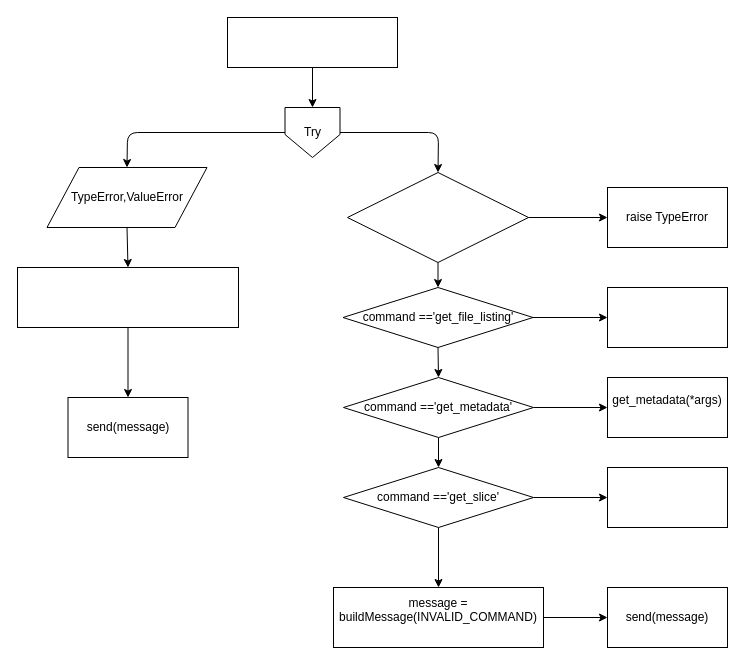
Image size: 745x665. Some labels were removed from this diagram. Each missing label, with the centre of its shape:
command in [ 'quit' , 'get_file_listing' ] and args: point 437,217
get_file_listing(): point 667,317
get_slice( * args): point 667,497
message= buildMessage(INVALID_ARGUMENTS): point 127,297
print ( "Request: " + command): point 312,42
